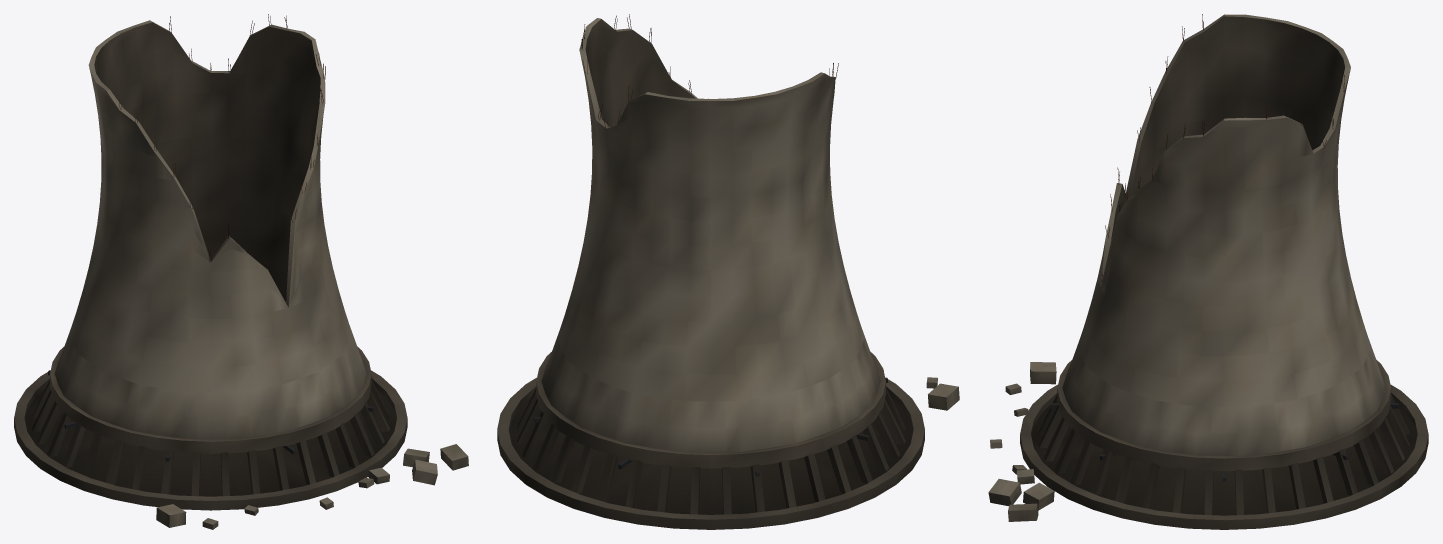
File: cooling_tower.glb
3 renders of one model, left to right at view 1: azimuth 30°, elevation 25°; view 2: azimuth 150°, elevation 25°; view 3: azimuth 270°, elevation 25°, orthographic. The views are drawn at different scales.
Parts seen in each view (by area): view 1: concrete, concrete_dark, rebar; view 2: concrete, concrete_dark; view 3: concrete, concrete_dark, rebar.
Boxes of the visible parts, x1,y1,x2,y2 form: concrete: (54, 20, 468, 529); concrete_dark: (14, 22, 407, 510); rebar: (119, 14, 325, 304); concrete: (541, 18, 959, 452); concrete_dark: (497, 19, 924, 529); concrete: (988, 14, 1386, 521); concrete_dark: (1020, 16, 1428, 529); rebar: (1101, 14, 1344, 282).
Size of what is drawn, in the model's own units: 49.2 by 51.95 by 53.02.
